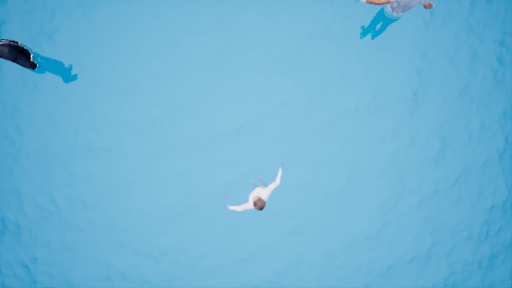person: (1, 32, 96, 89), (356, 1, 441, 44), (228, 166, 287, 216)
